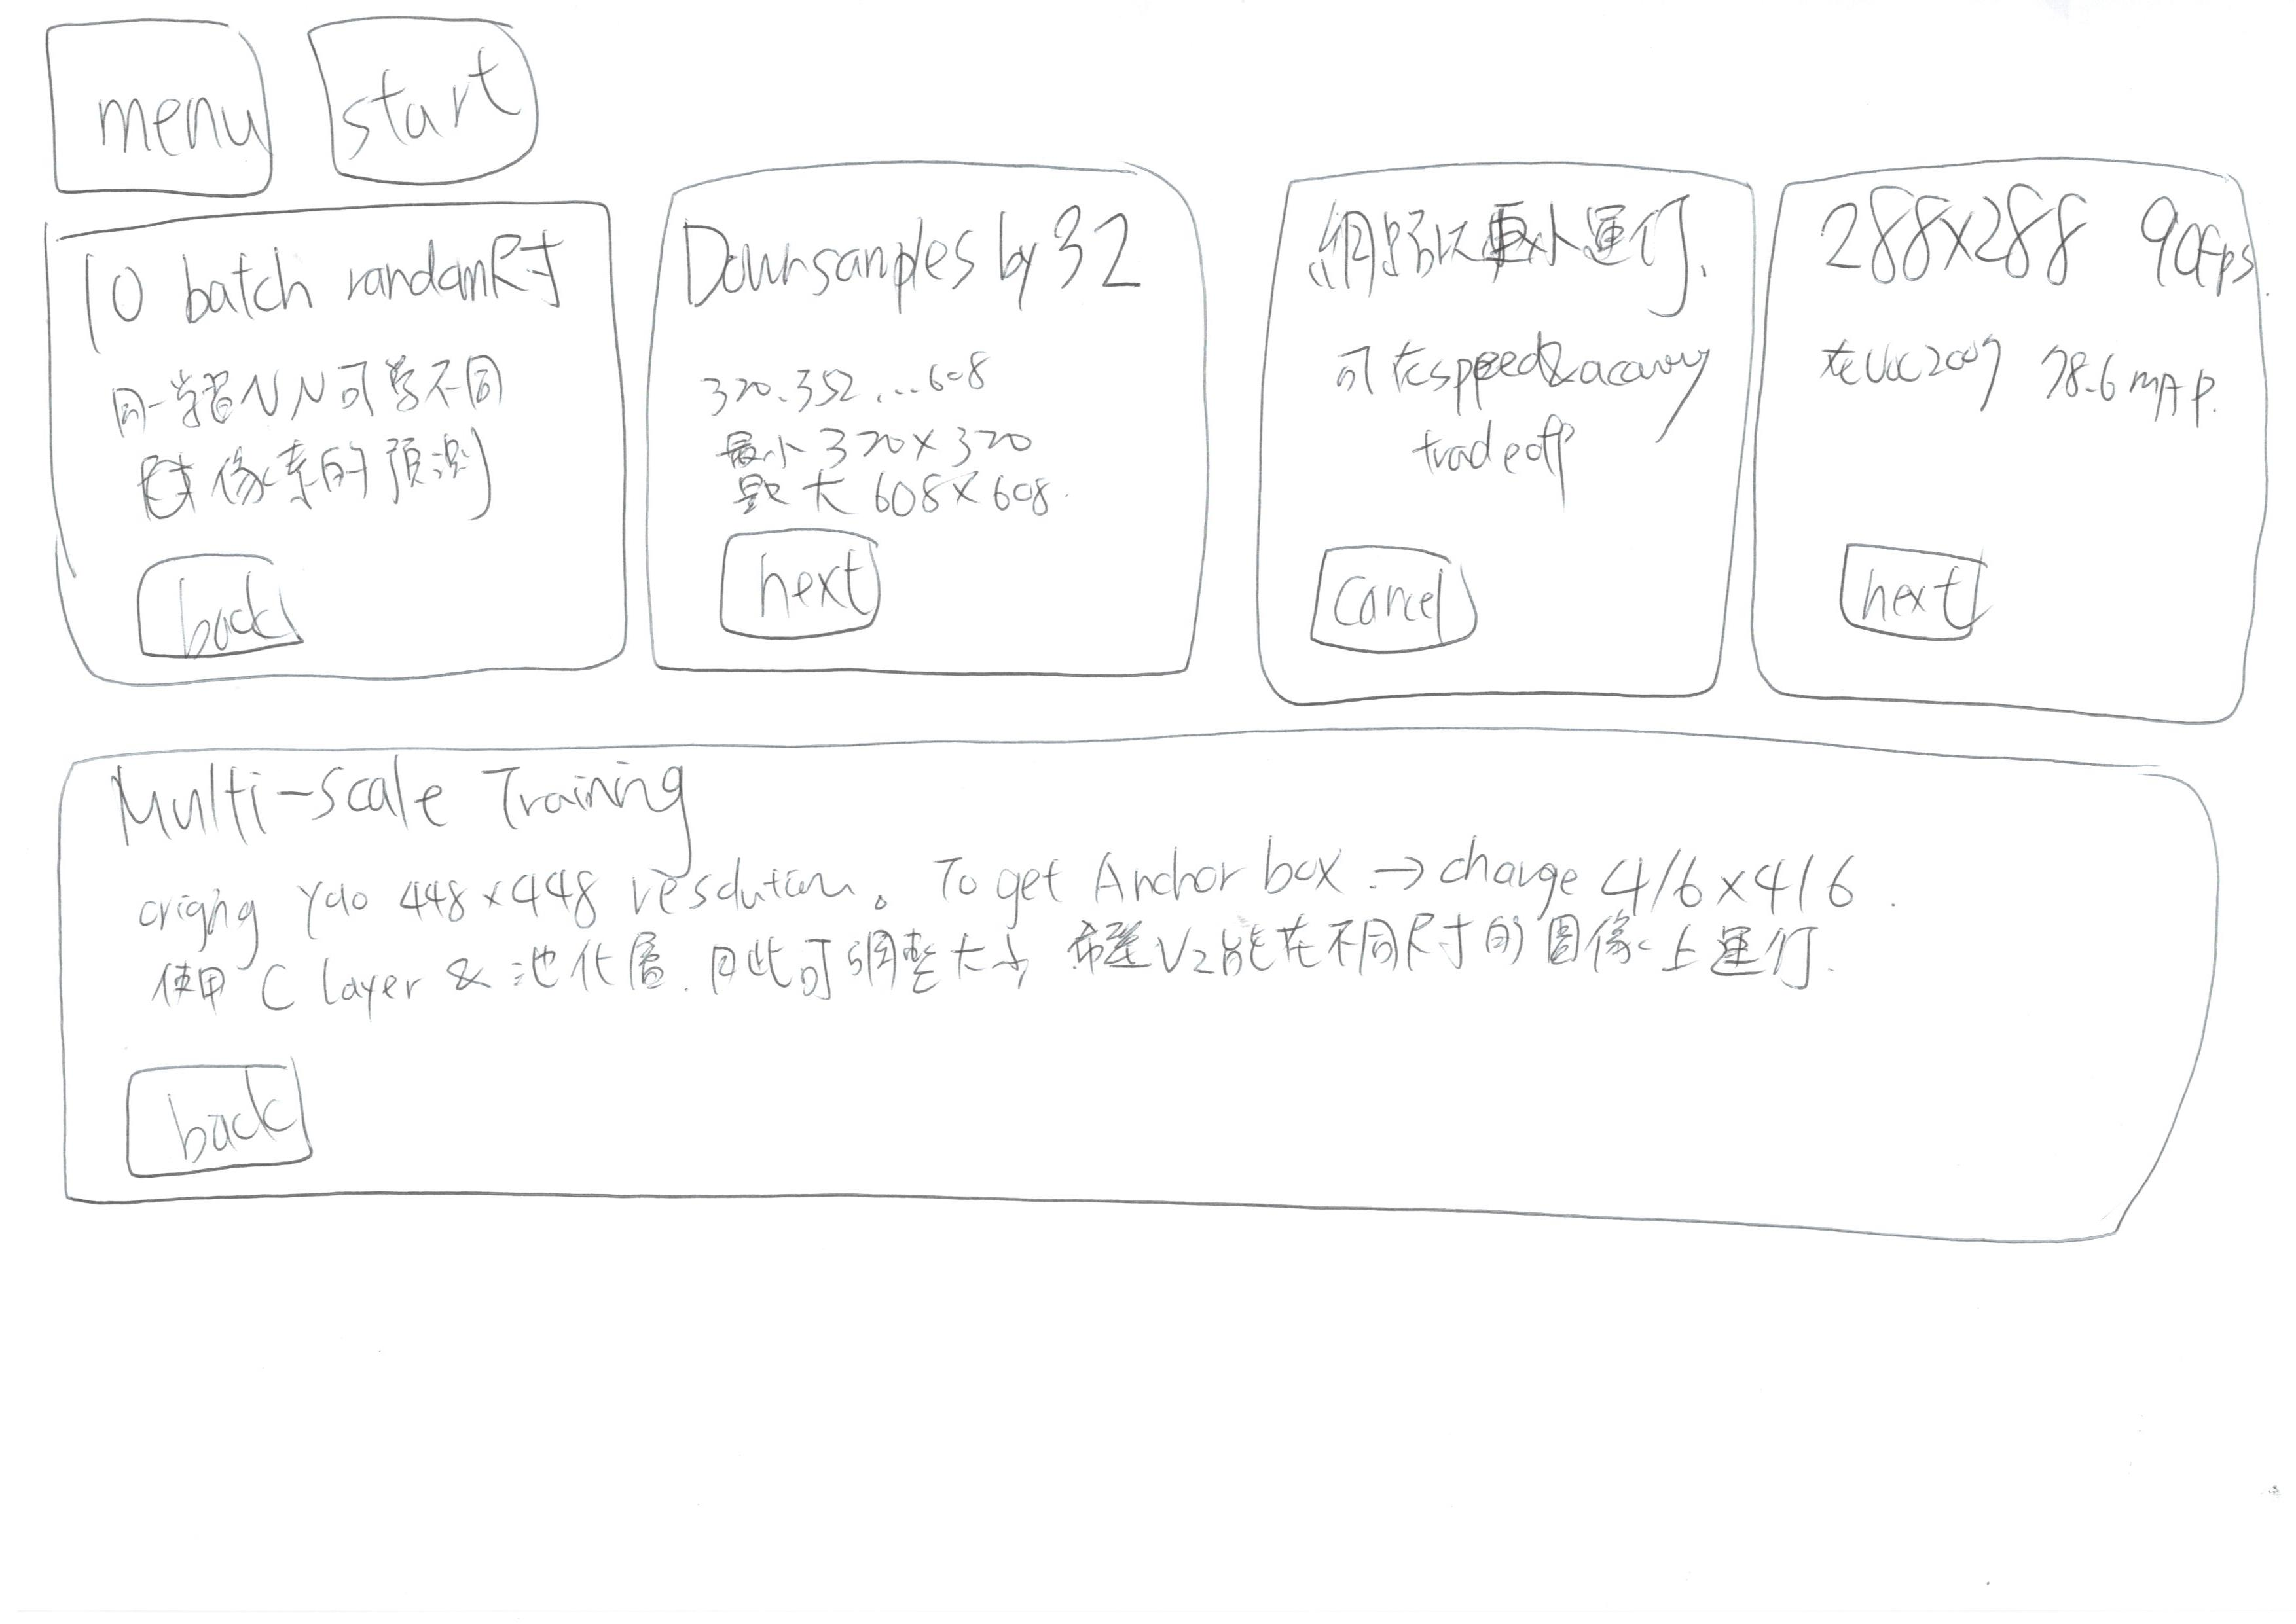back: (95, 1037, 352, 1181), (107, 540, 308, 678)
cancel: (1275, 522, 1500, 671)
menu: (26, 5, 288, 237)
next: (1811, 524, 2045, 680), (694, 522, 912, 659)
quadruple: (635, 146, 1250, 726), (5, 178, 635, 710), (1229, 146, 1777, 729), (1747, 139, 2296, 721)
row: (18, 139, 2296, 777), (18, 703, 2296, 1341), (14, 0, 2292, 199)
single: (28, 712, 2287, 1281)
small-title: (1816, 172, 2236, 302), (104, 766, 712, 845), (691, 195, 1132, 302), (1322, 197, 1697, 301), (104, 246, 571, 323)
start: (295, 0, 559, 195)
text: (130, 842, 1828, 993), (98, 350, 526, 526), (1317, 332, 1716, 497), (719, 364, 1083, 524), (1828, 325, 2231, 422)
